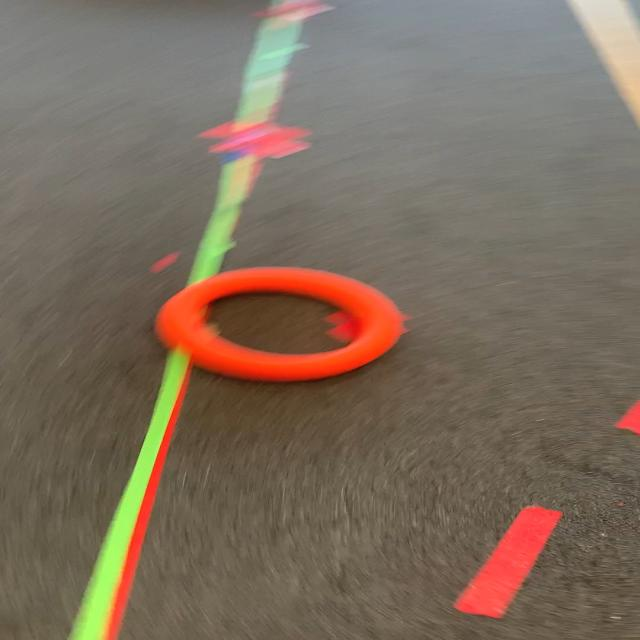notes: (154, 266, 405, 381)
